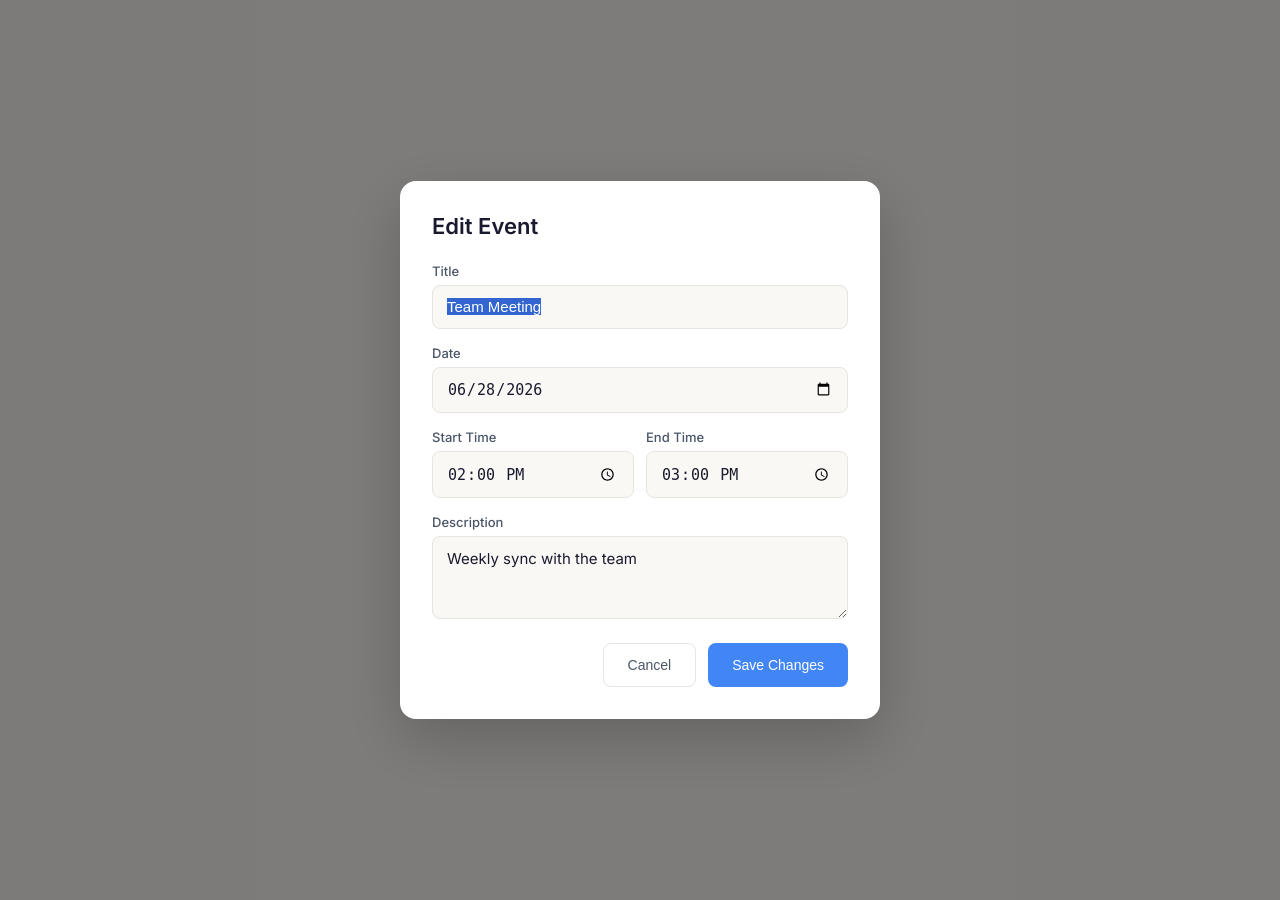
Test case: EditEventDialog › disables save button while saving
What coordinates should you click on to do the following:
click the button "Save Changes"
I would click on:
 (778, 665)
Its box is 708,643 -> 848,687.
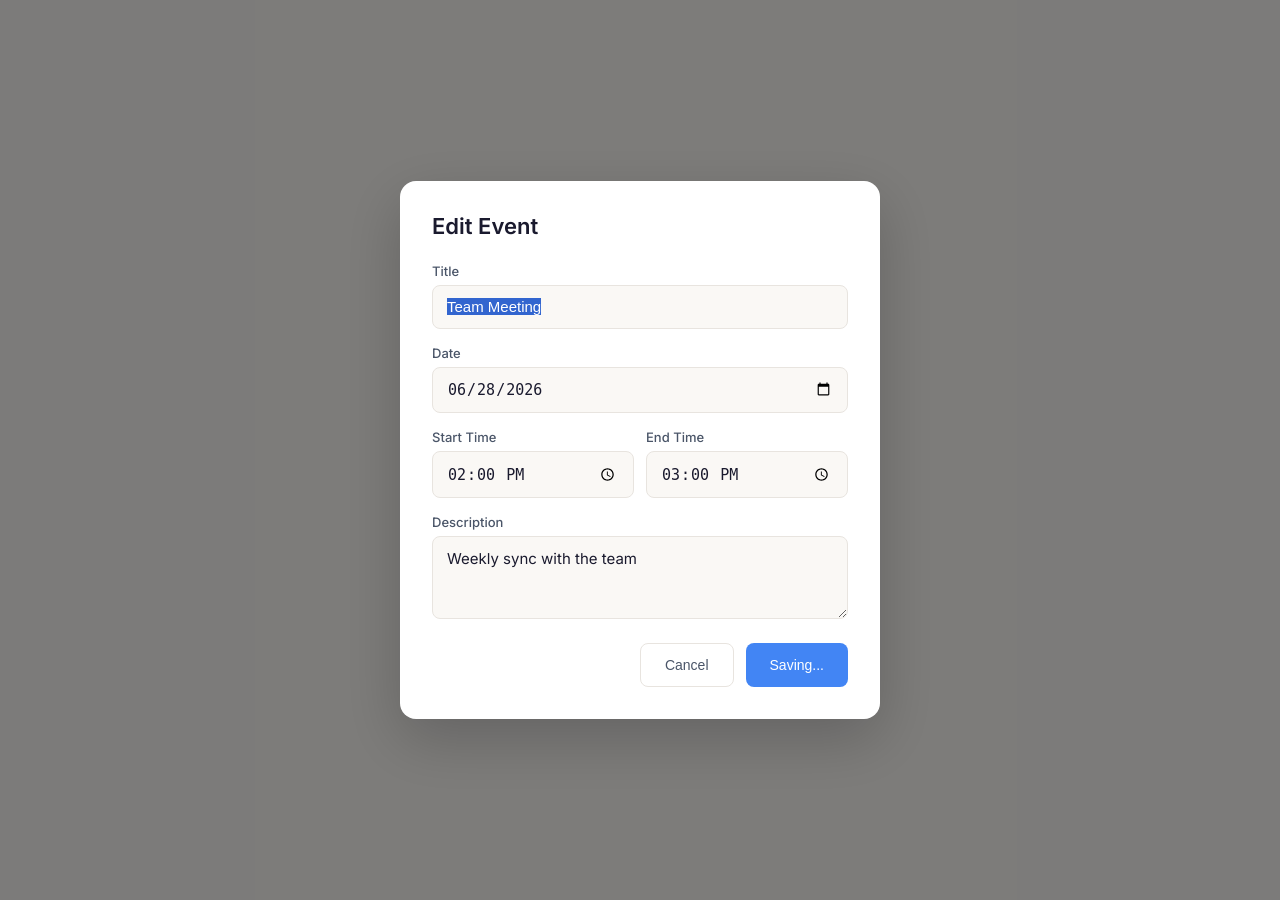
Expected: the button "Saving..." is disabled, 746,643 -> 848,687
